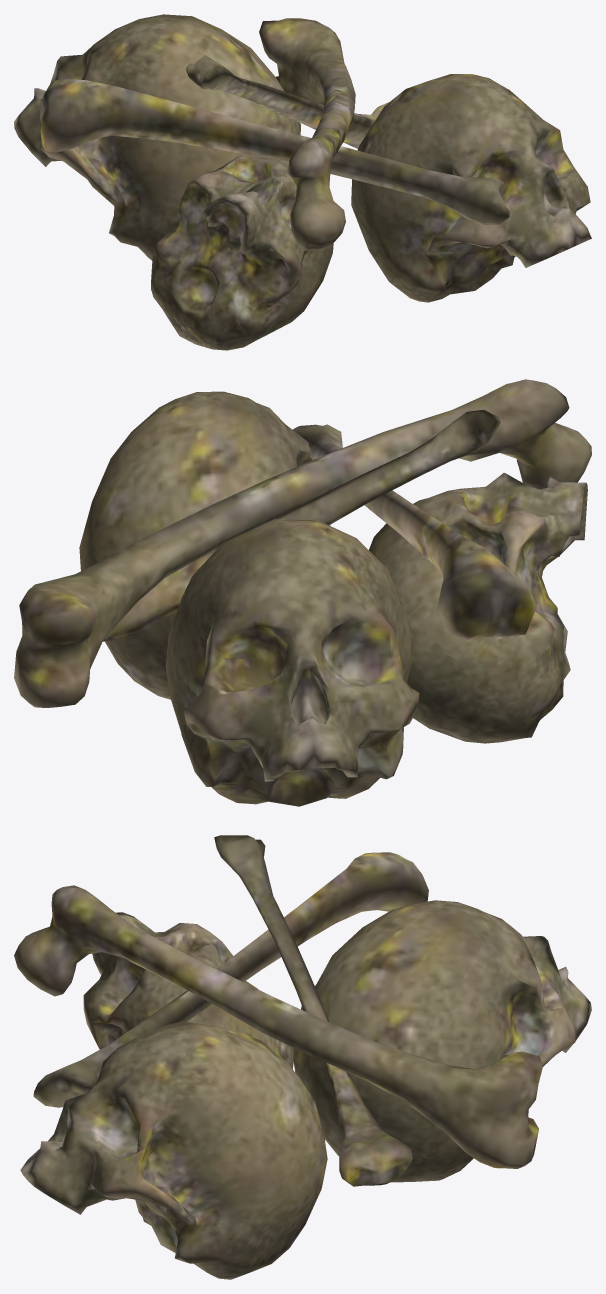
Rendered from Valley_Skull_Bone_c-transformed.glb.
The picture shows the model from 3 angles, top to bottom: view 1: azimuth 30°, elevation 25°; view 2: azimuth 150°, elevation 25°; view 3: azimuth 270°, elevation 25°; orthographic projection. The views are drawn at different scales.
Visible parts, largest first — view 1: default; view 2: default; view 3: default.
Part boxes in pixels (<box>): default: <box>14,14,591,350</box>; default: <box>14,379,591,806</box>; default: <box>14,835,591,1279</box>.
Size of the model in its own units: 1.15 by 0.7064 by 1.21.
Materials: 1 (1 with a texture image).
